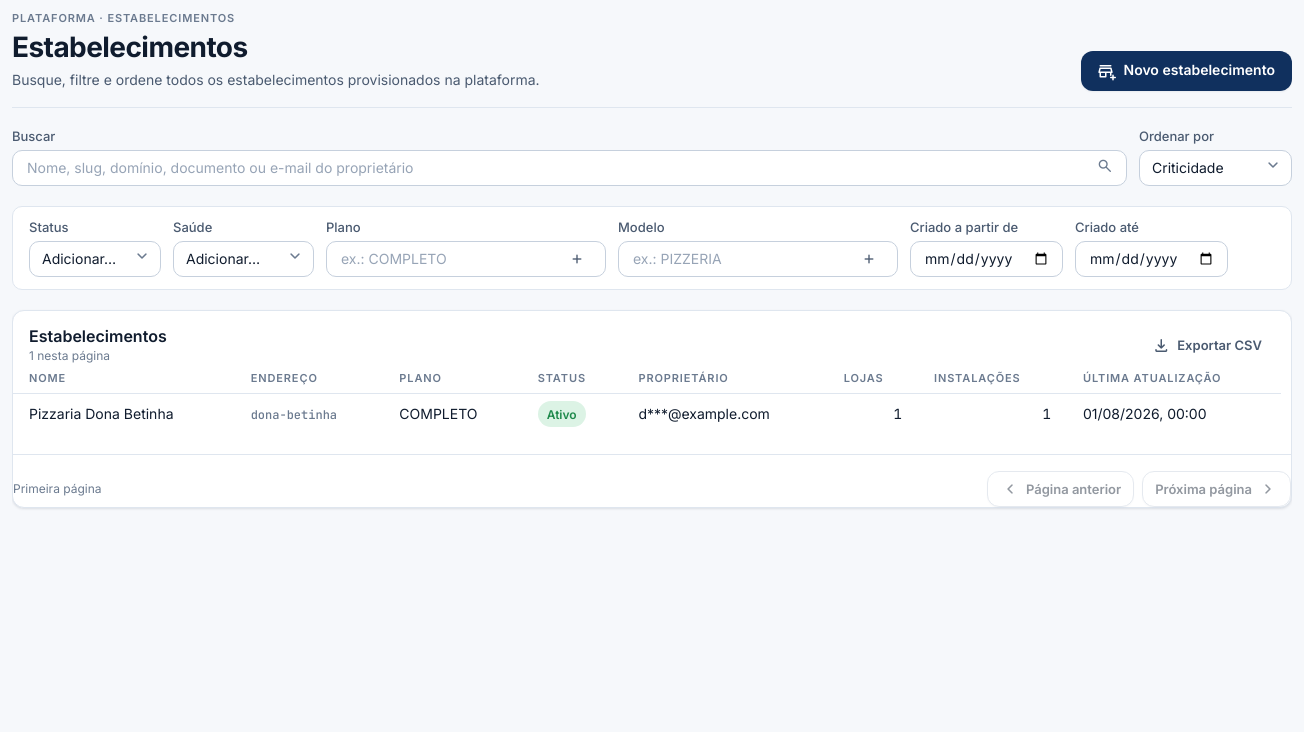
TenantsDirectoryPage › aplicar e remover um filtro por chip refaz a busca e reflete na URL
The width and height of the screenshot is (1304, 732).
expect the text "Pizzaria Dona Betinha" is shown: met, box [13,394,235,434]
Select "Ativo" in the dropdown labelled "Status": (95, 259) [30,242,160,276]
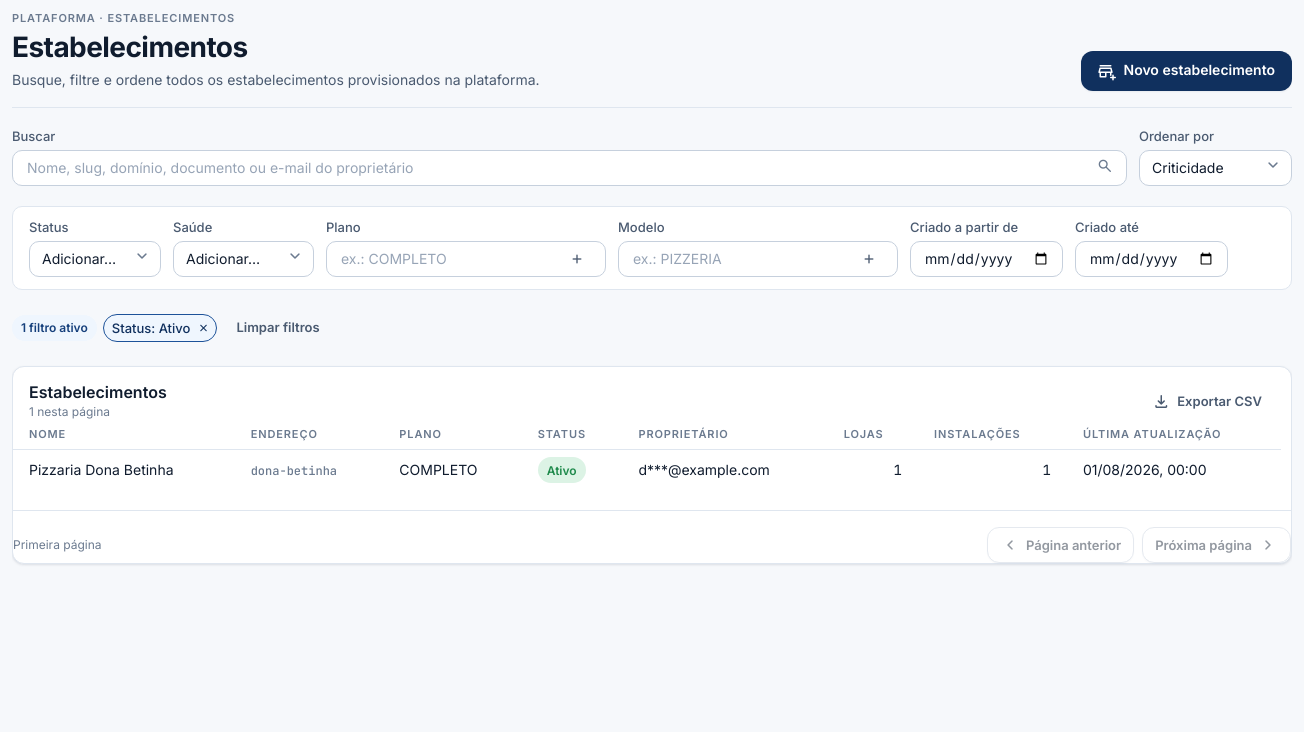
expect the text "Status: Ativo" is shown: met, box [103,314,217,342]
expect the text "1 filtro ativo" is shown: met, box [12,315,97,341]
Click the button named "Remover filtro: Status: Ativo": (203, 328) [194,319,212,337]
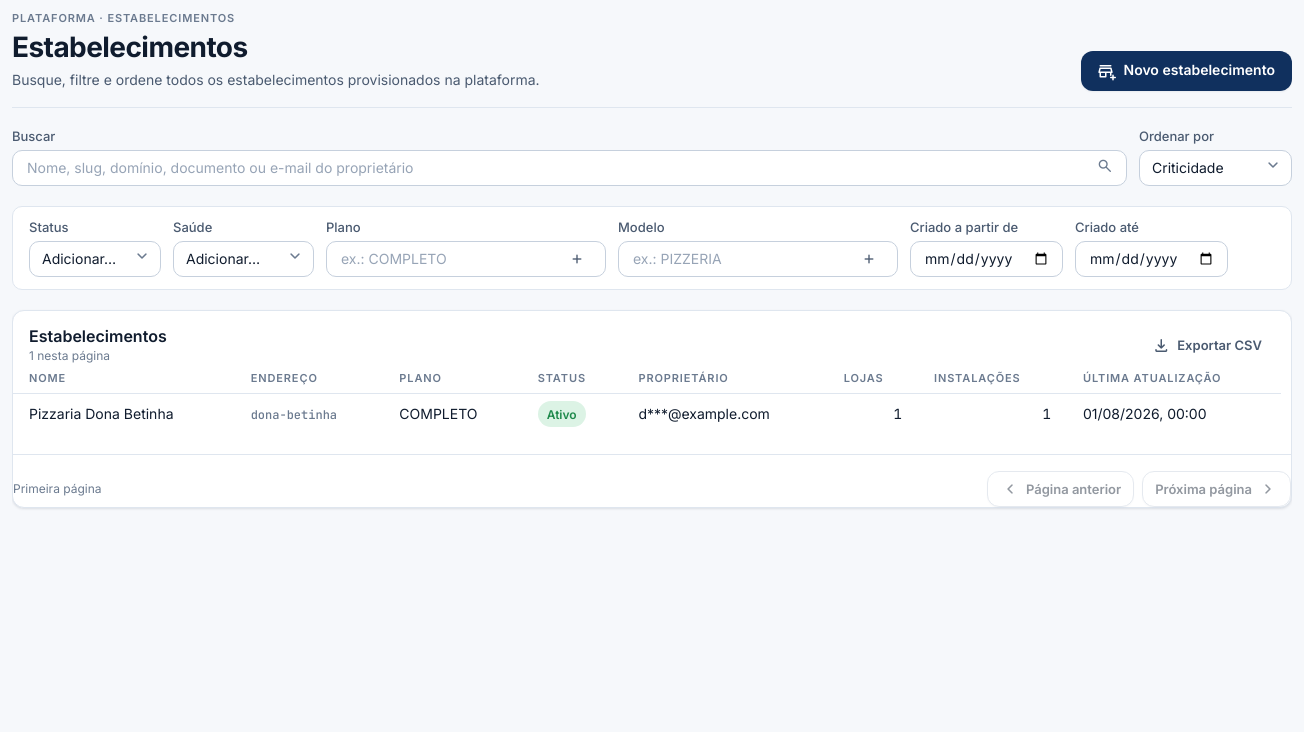
expect the text "Status: Ativo" is gone: met
